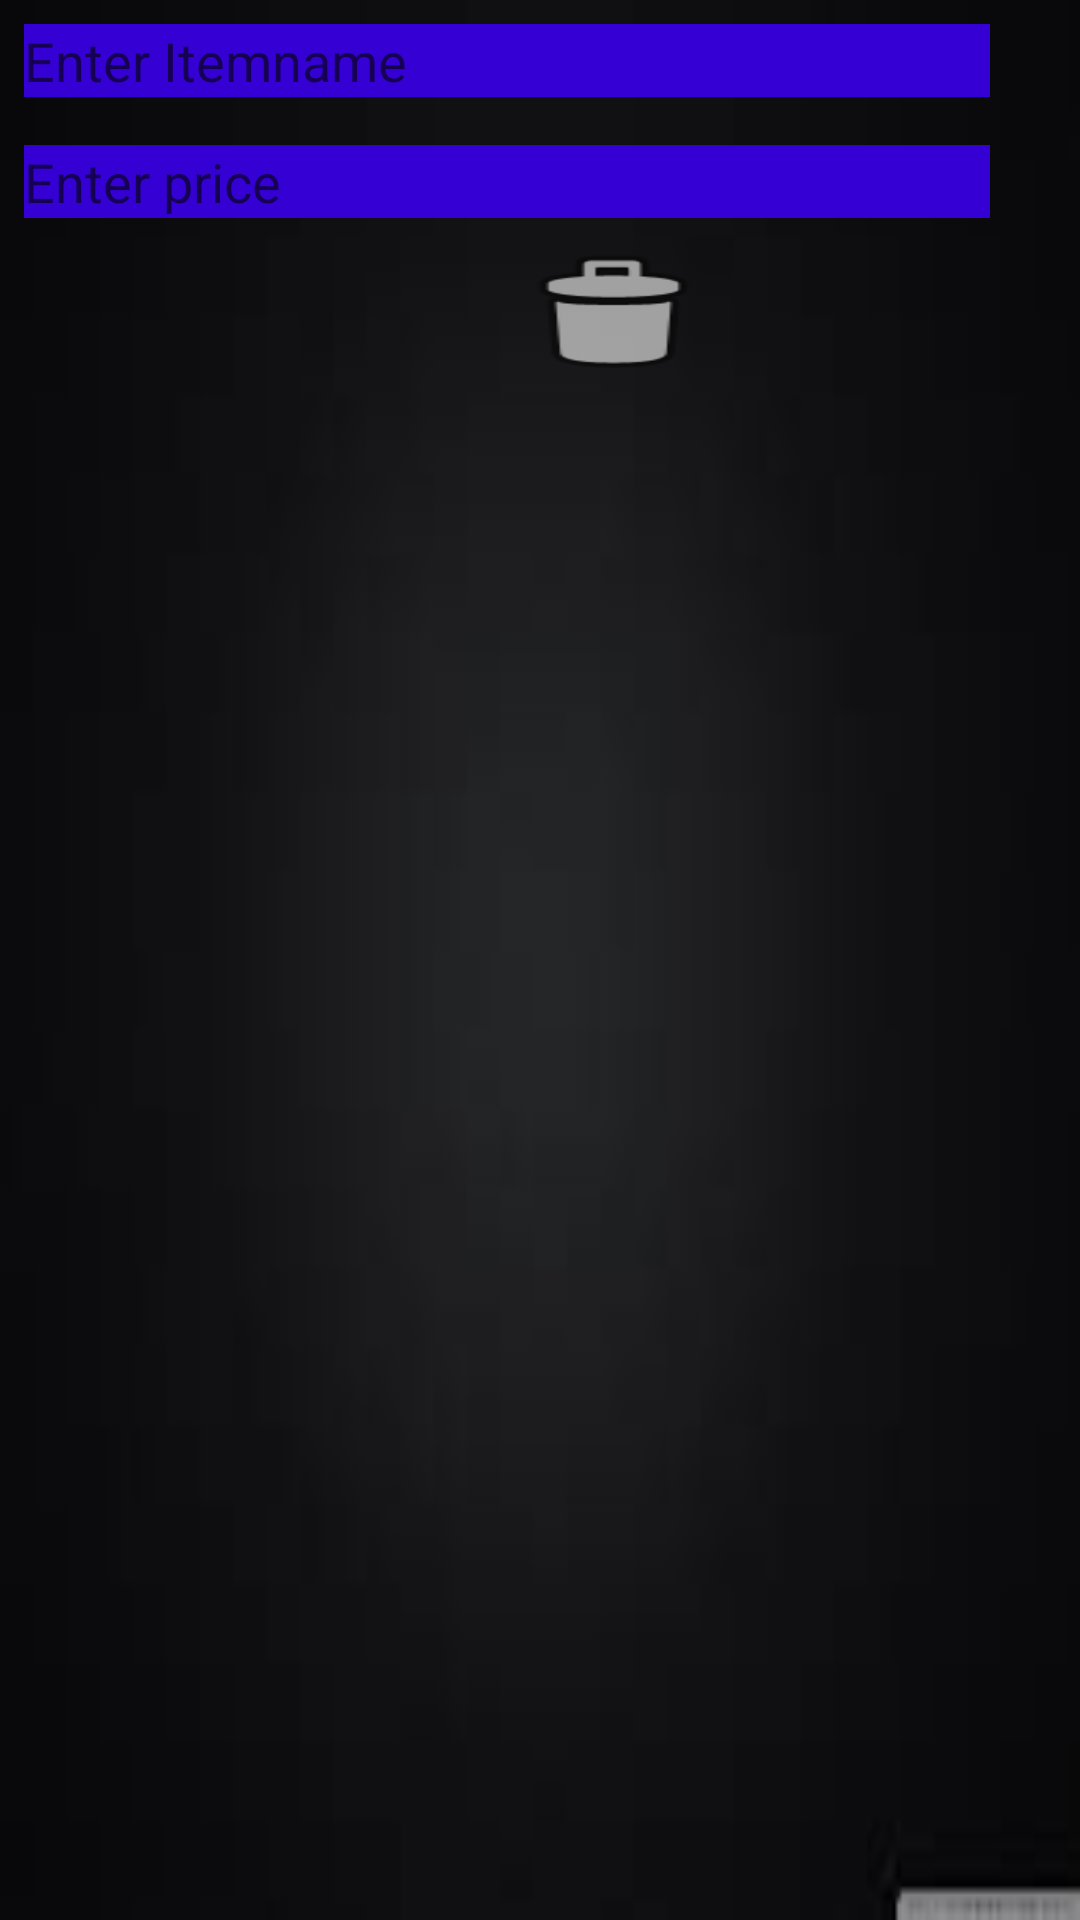

Named icons in this screenshot (1080x1920) and their centers, (x,y):
delete: (613,312)
